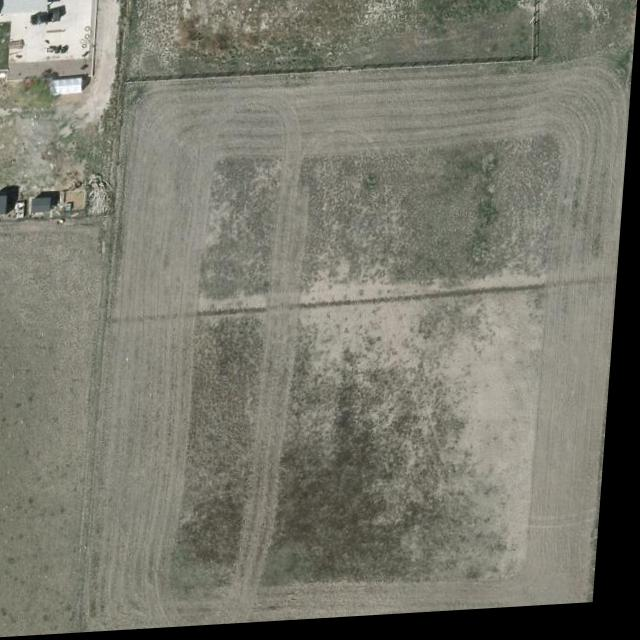vehicle: (30, 8, 62, 29)
